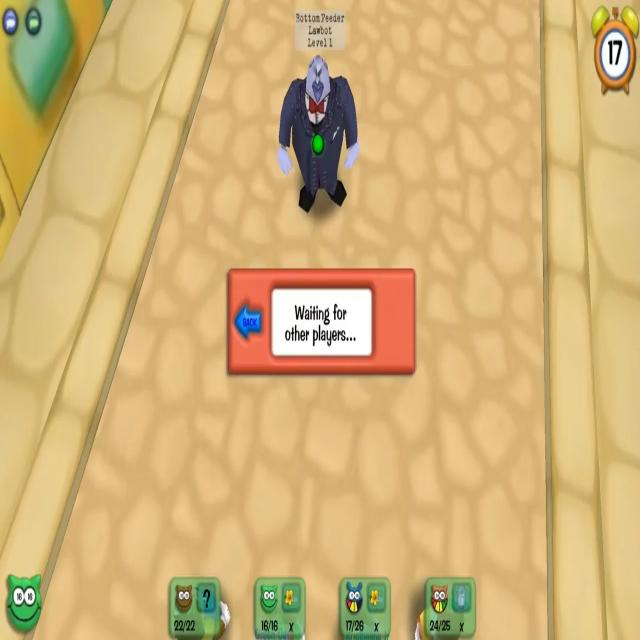bottomfeeder: (264, 9, 366, 210)
